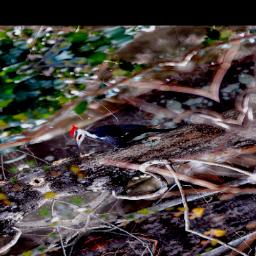Woodpecker: (59, 94, 181, 161)
